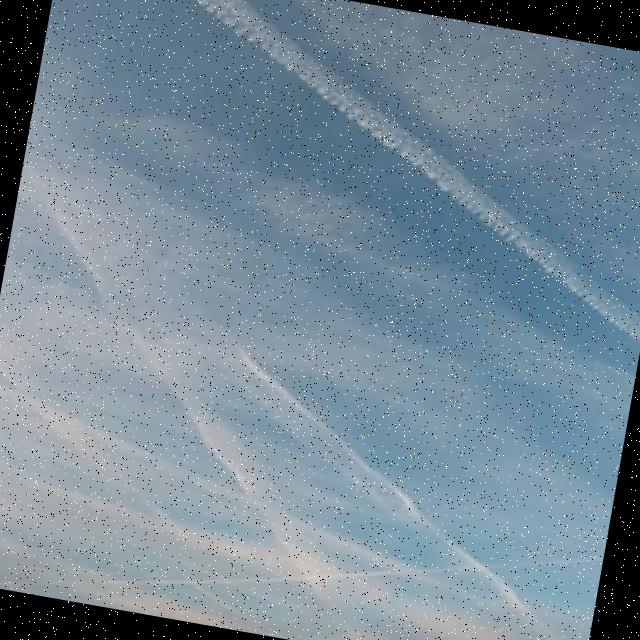Ct: (1, 1, 640, 610)
